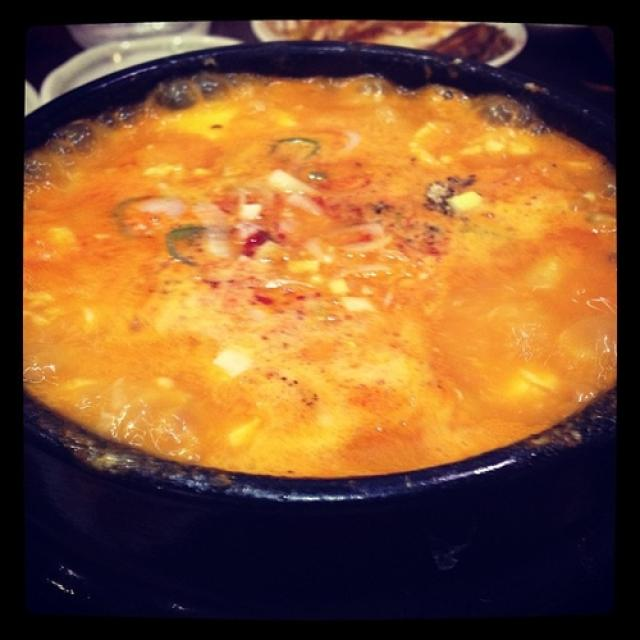汤锅炖物: (19, 50, 626, 576)
